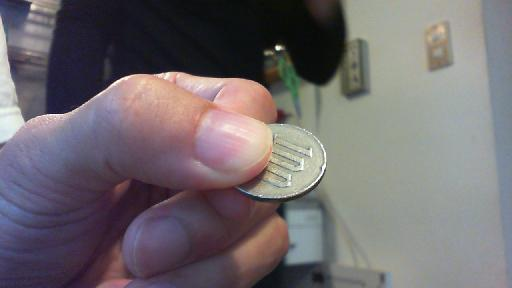100yen: (215, 124, 325, 200)
